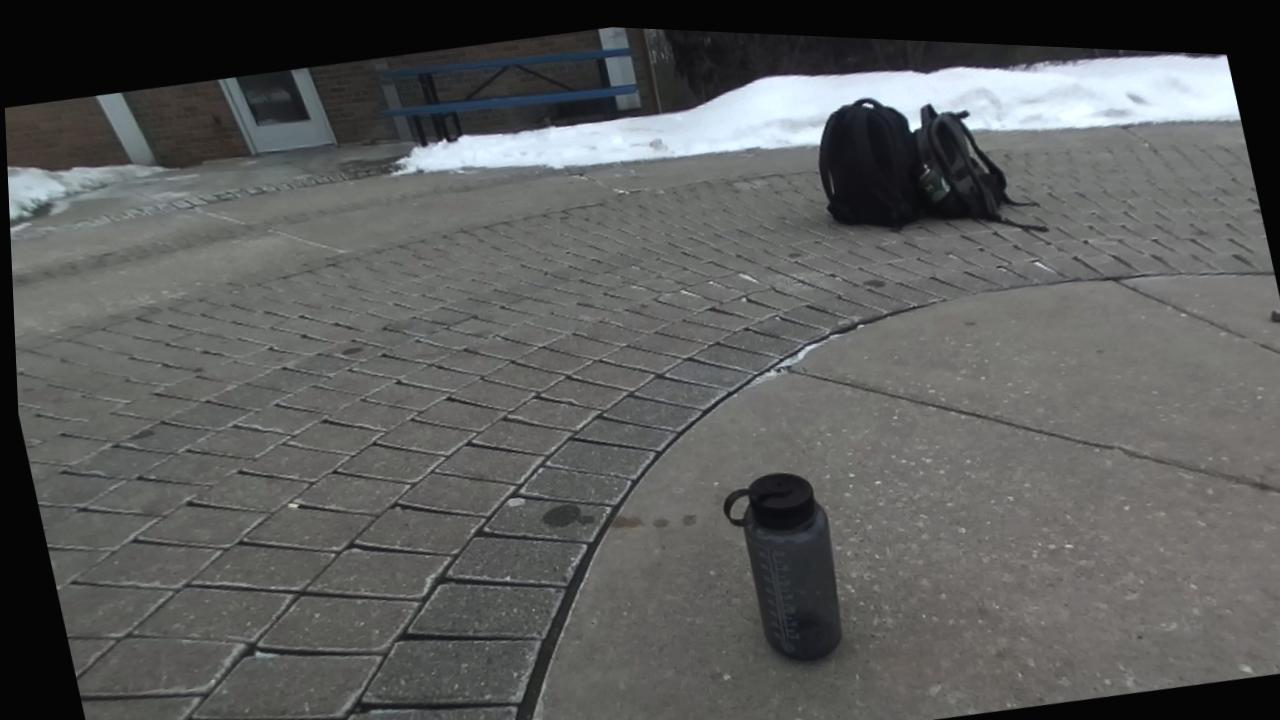bottle: (724, 473, 841, 660)
